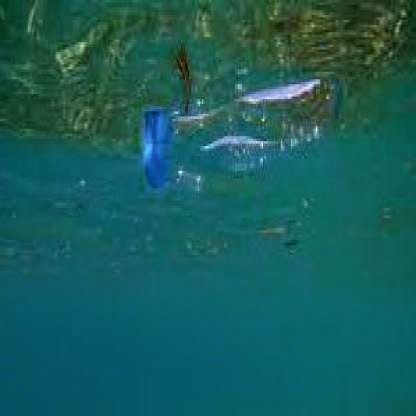pbottle: (131, 67, 345, 198)
